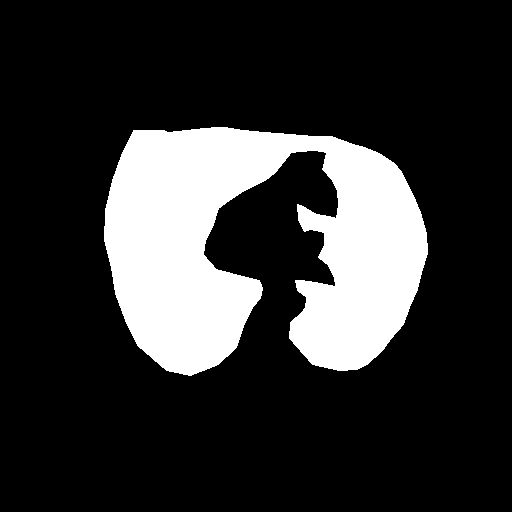Lungs: (101, 124, 426, 370)
